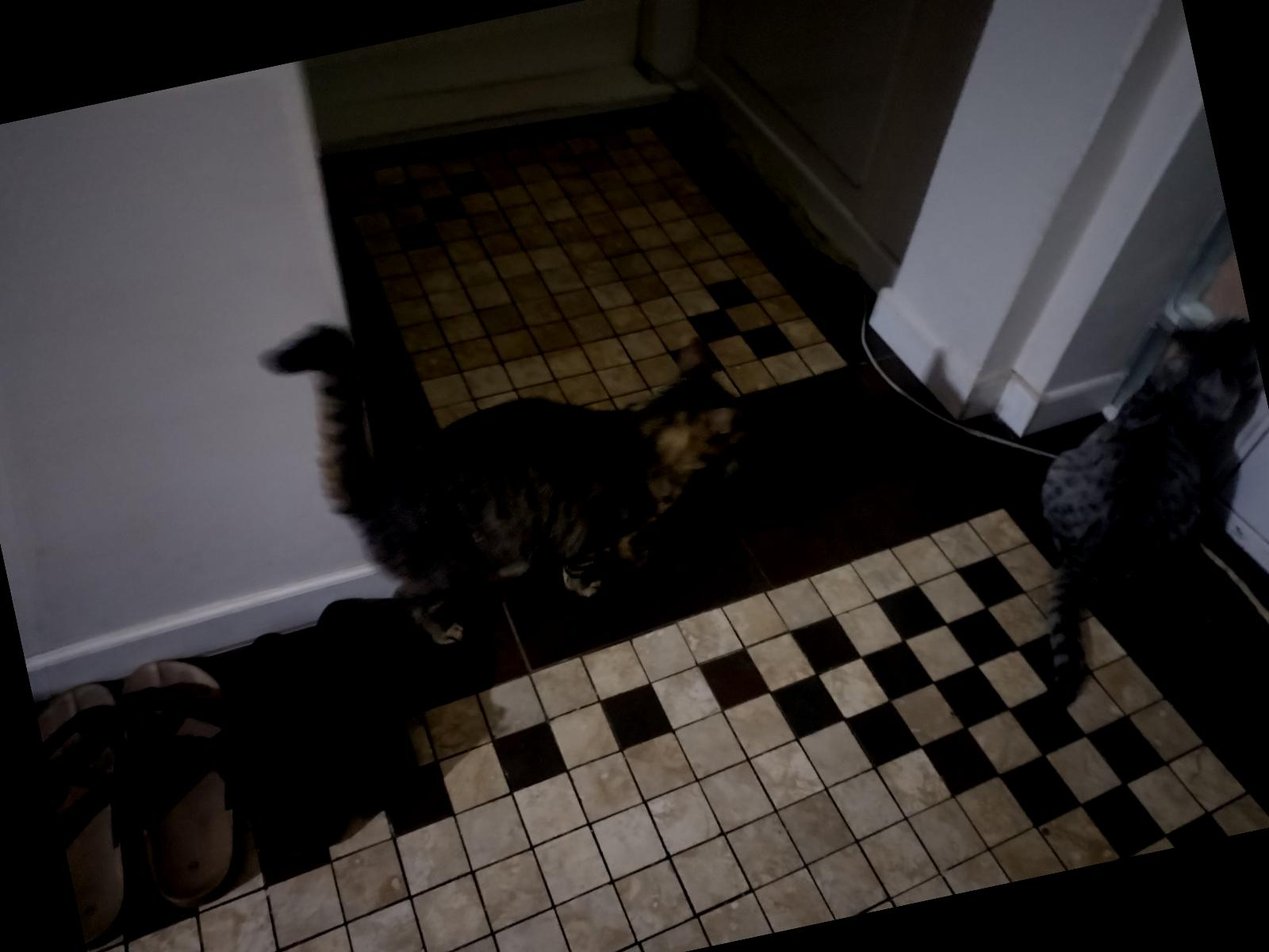macka: (255, 241, 792, 674), (963, 312, 1269, 715)
